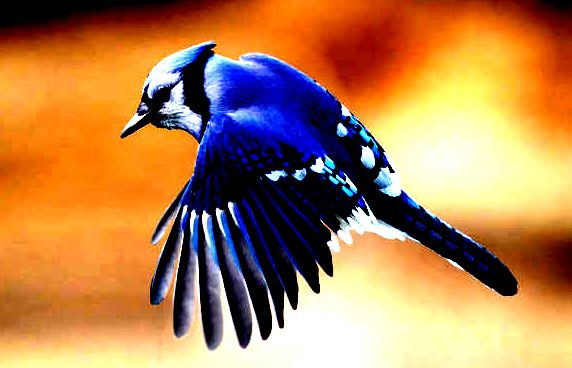Bird: (117, 38, 519, 354)
